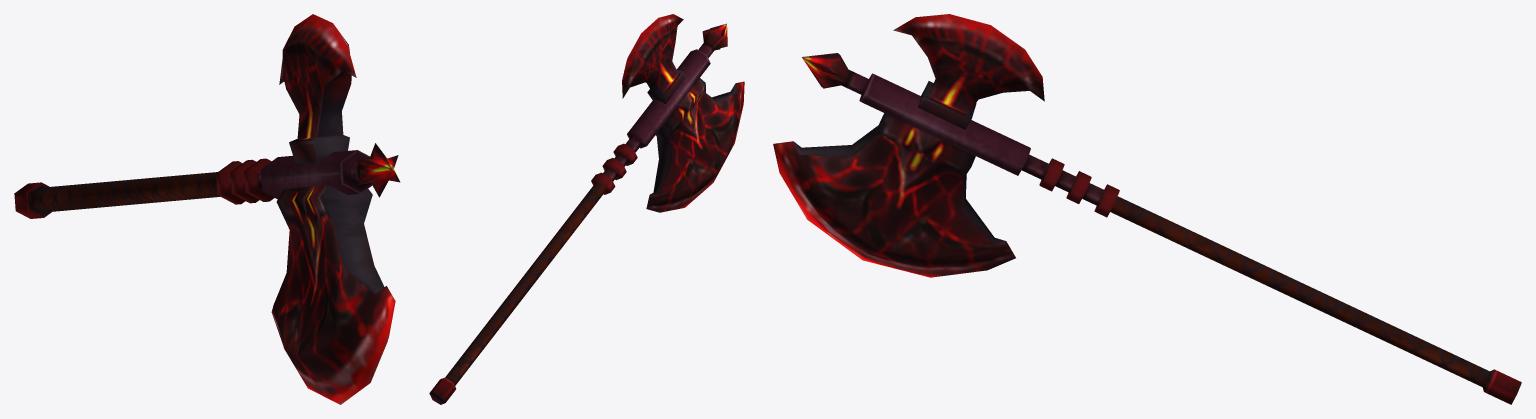
File: berserker-righthandweapon02B.FBX
3 renders of one model, left to right at view 1: azimuth 30°, elevation 25°; view 2: azimuth 150°, elevation 25°; view 3: azimuth 270°, elevation 25°, orthographic. The views are drawn at different scales.
Visible parts, largest first — view 1: berserker-righthandweapon019; view 2: berserker-righthandweapon019; view 3: berserker-righthandweapon019.
Part boxes in pixels (x1=…): berserker-righthandweapon019: x1=14, y1=14, x2=400, y2=404; berserker-righthandweapon019: x1=429, y1=14, x2=744, y2=404; berserker-righthandweapon019: x1=773, y1=14, x2=1521, y2=404.
Bounding box in the file's own units: 40.07 × 128 × 234.
